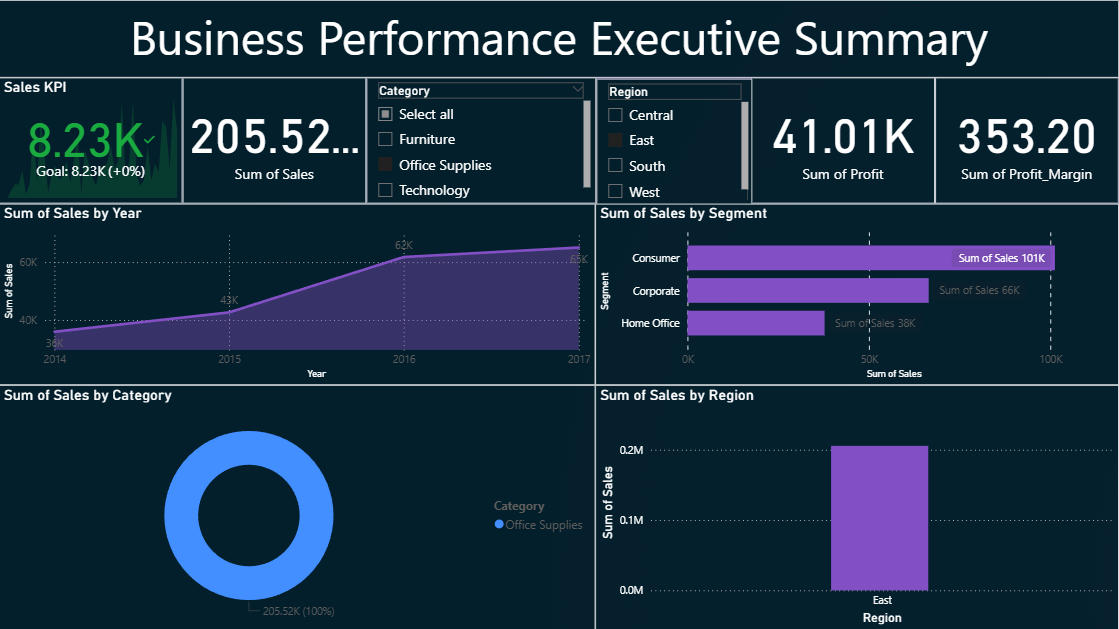

The dashboard page shown, as its layout file describes it:
{"tool":"powerbi","page":{"name":"Page 1","canvas":[1280,720],"ordinal":0},"visuals":[{"type":"lineChart","fields":{"Category":["Superstore_clean.MonthYear.Variation.Date Hierarchy.Year","Superstore_clean.MonthYear.Variation.Date Hierarchy.Quarter","Superstore_clean.MonthYear.Variation.Date Hierarchy.Month","Superstore_clean.MonthYear.Variation.Date Hierarchy.Day"],"Y":["Sum(Superstore_clean.Sales)"]},"box":[0,233.3,682,207.2],"z":0},{"type":"clusteredColumnChart","fields":{"Category":["Superstore_clean.Region"],"Y":["Sum(Superstore_clean.Sales)"]},"box":[682,440.5,598.3,279.9],"z":1000},{"type":"donutChart","fields":{"Category":["Superstore_clean.Category"],"Y":["Sum(Superstore_clean.Sales)"]},"box":[0,440.5,682,279.9],"z":2000},{"type":"kpi","title":"Sales KPI","fields":{"Indicator":["Sum(Superstore_clean.Sales)"],"TrendLine":["Superstore_clean.YearMonth"],"Goal":["Sum(Superstore_clean.Sales)"]},"box":[0,89.2,209.9,144.1],"z":3000},{"type":"slicer","fields":{"Values":["Superstore_clean.Region"]},"box":[682.9,89.6,179.1,144.3],"z":4000},{"type":"slicer","fields":{"Values":["Superstore_clean.Category"]},"box":[419.9,89.2,262.1,144.1],"z":5000},{"type":"card","fields":{"Values":["Sum(Superstore_clean.Sales)"]},"box":[209.9,89.2,209.9,144.1],"z":6000},{"type":"card","fields":{"Values":["Sum(Superstore_clean.Profit)"]},"box":[860.4,89.2,209.9,144.1],"z":7000},{"type":"card","fields":{"Values":["Sum(Superstore_clean.Profit_Margin)"]},"box":[1070.3,89.2,209.9,144.1],"z":8000},{"type":"clusteredBarChart","fields":{"Category":["Superstore_clean.Segment"],"Y":["Sum(Superstore_clean.Sales)"]},"box":[682,233.3,598.3,207.2],"z":9000},{"type":"textbox","box":[0,0,1280.3,89.2],"z":10000}]}

Visuals, with their boxes in screenshot pixels (x1, y1, x2, y2), scaled from the page's 1280x720 canvas onto the 1119x629 screenshot:
lineChart - Superstore_clean.MonthYear.Variation.Date Hierarchy.Year x Superstore_clean.MonthYear.Variation.Date Hierarchy.Quarter: [x1=0, y1=204, x2=596, y2=385]
clusteredColumnChart - Superstore_clean.Region x Sum(Superstore_clean.Sales): [x1=596, y1=385, x2=1118, y2=628]
donutChart - Superstore_clean.Category x Sum(Superstore_clean.Sales): [x1=0, y1=385, x2=596, y2=628]
"Sales KPI" kpi: [x1=0, y1=78, x2=183, y2=204]
slicer - Superstore_clean.Region: [x1=597, y1=78, x2=754, y2=204]
slicer - Superstore_clean.Category: [x1=367, y1=78, x2=596, y2=204]
card - Sum(Superstore_clean.Sales): [x1=183, y1=78, x2=367, y2=204]
card - Sum(Superstore_clean.Profit): [x1=752, y1=78, x2=936, y2=204]
card - Sum(Superstore_clean.Profit_Margin): [x1=936, y1=78, x2=1118, y2=204]
clusteredBarChart - Superstore_clean.Segment x Sum(Superstore_clean.Sales): [x1=596, y1=204, x2=1118, y2=385]
textbox: [x1=0, y1=0, x2=1118, y2=78]
